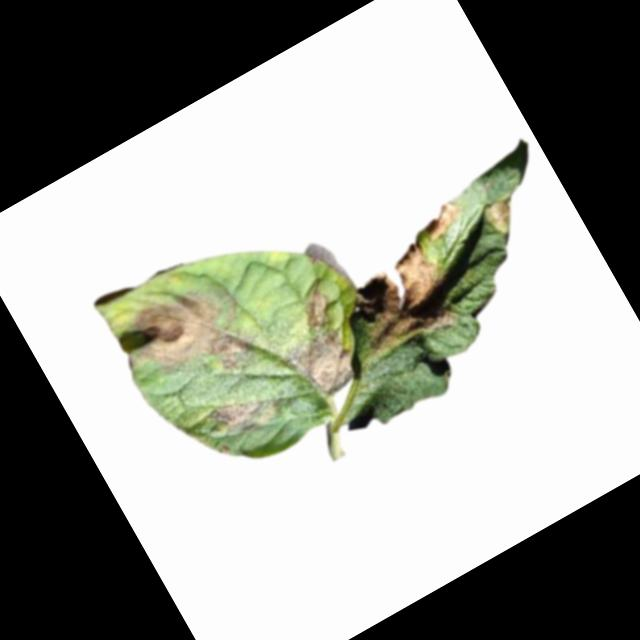Late_blight: (119, 267, 264, 406), (331, 234, 470, 369), (279, 323, 366, 408), (205, 377, 289, 452), (416, 195, 471, 245), (479, 192, 527, 241), (294, 286, 337, 331)
